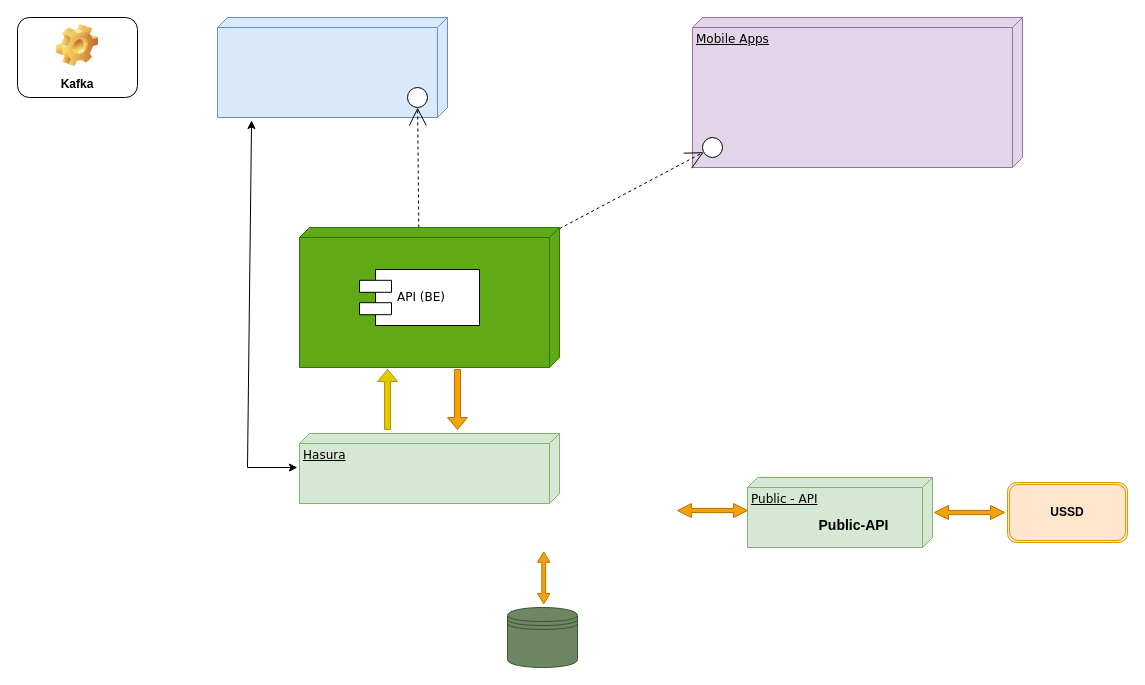
The diagram is 1145 pixels wide and 685 high, and some of its shapes have lost their labels. The shapes that lost their labels are listed below. From the top down, each one's box as (x1, y1, x2, y2) in pixels, then its label:
(216, 16, 448, 118): Web
(298, 226, 560, 368): Backend
(506, 606, 578, 668): DB (Postgres)
